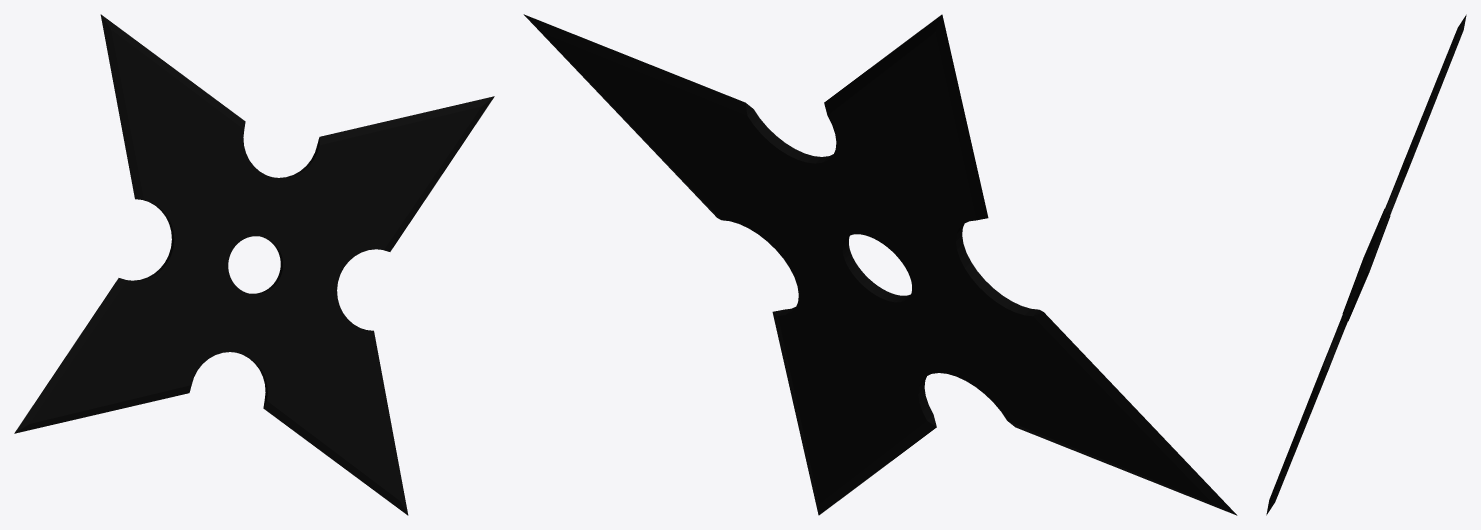
Rendered from shuriken.glb.
3 views of the same model, side by side, from view 1: azimuth 30°, elevation 25°; view 2: azimuth 150°, elevation 25°; view 3: azimuth 270°, elevation 25° (orthographic). The views are drawn at different scales.
Parts seen in each view (by area): view 1: Torus; view 2: Torus; view 3: Torus.
Part boxes in pixels (x1=…): Torus: x1=14, y1=14, x2=494, y2=515; Torus: x1=523, y1=14, x2=1237, y2=515; Torus: x1=1266, y1=14, x2=1466, y2=515.
Bounding box in the file's own units: 0.3318 × 0.3082 × 0.1343.
1 material, 1 textured.
